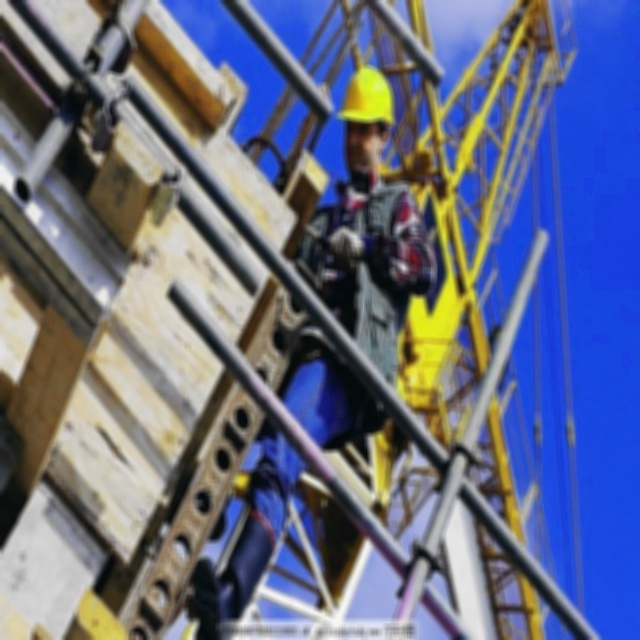Con_Casco: (339, 66, 390, 168)
